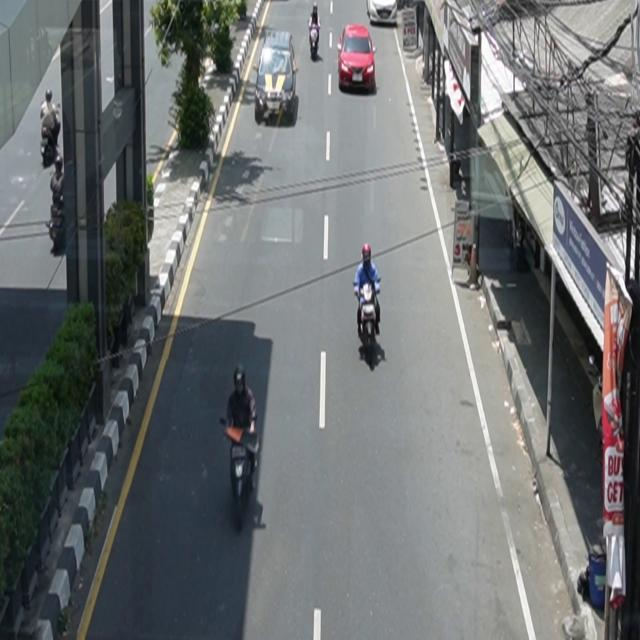car: (255, 31, 299, 121), (338, 24, 377, 93), (367, 1, 398, 26)
